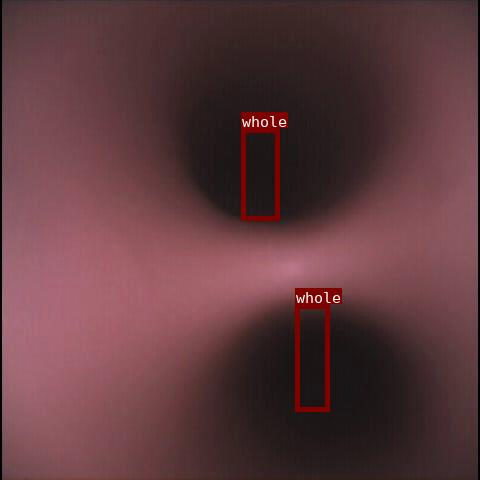whole: (295, 304, 329, 411), (241, 128, 279, 220)
